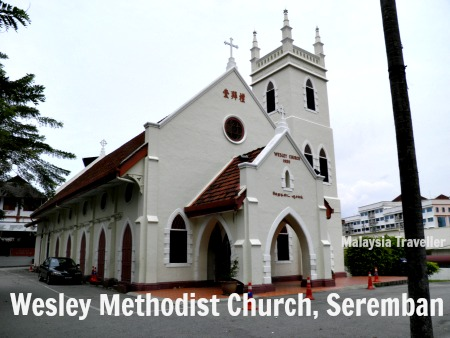Church: (55, 10, 346, 282)
